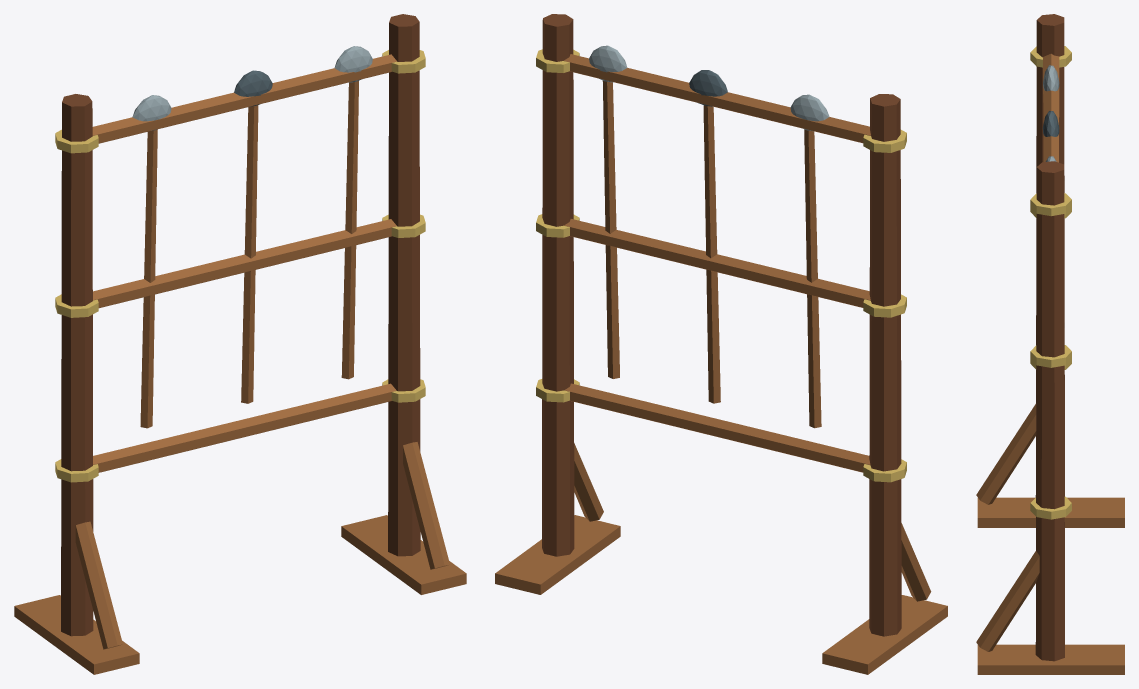
The model's file is rack_tool.glb.
The picture shows the model from 3 angles, left to right: view 1: azimuth 30°, elevation 25°; view 2: azimuth 150°, elevation 25°; view 3: azimuth 270°, elevation 25°; orthographic projection. The views are drawn at different scales.
Visible parts, largest first — view 1: rack_tool.001; view 2: rack_tool.001; view 3: rack_tool.001.
Part boxes in pixels (x1,y1,x2,y2): rack_tool.001: [14, 14, 466, 674]; rack_tool.001: [495, 14, 947, 674]; rack_tool.001: [976, 14, 1124, 674].
Size of the model in its own units: 1.21 by 1.68 by 0.455.
